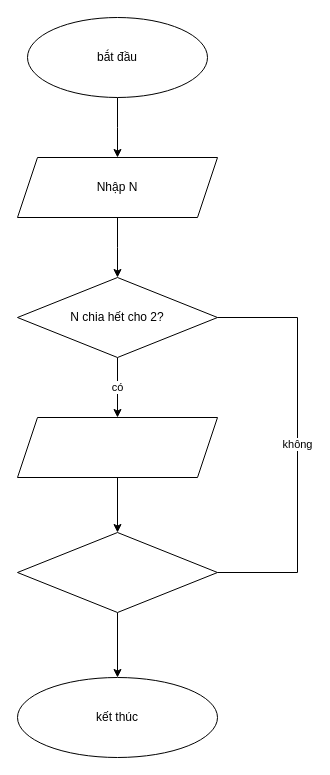
The diagram is 330 pixels wide and 775 high, and some of its shapes have lost their labels. Each missing label, with the centre of its shape:
"chẵn" goes at point (117, 447).
"lẻ?" goes at point (117, 572).
